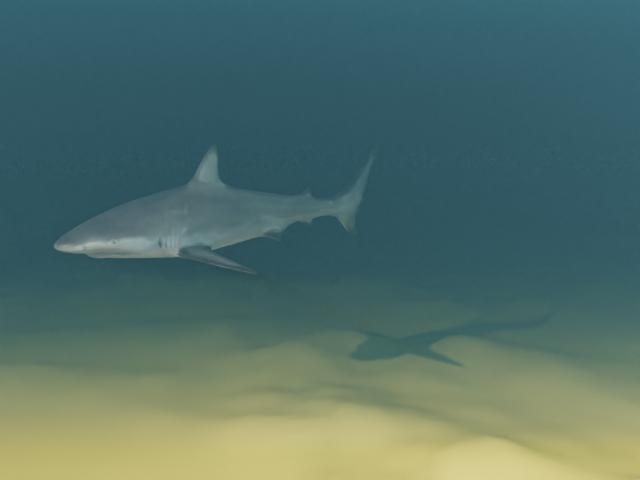Carribean Shark.001: (53, 143, 377, 273)
